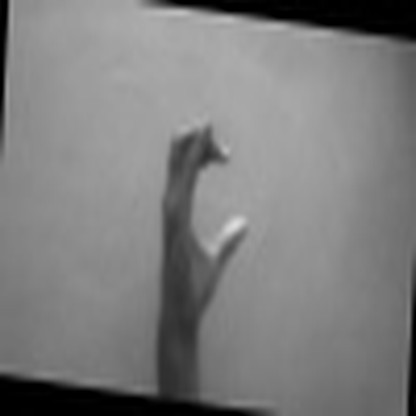c: (145, 109, 252, 312)
